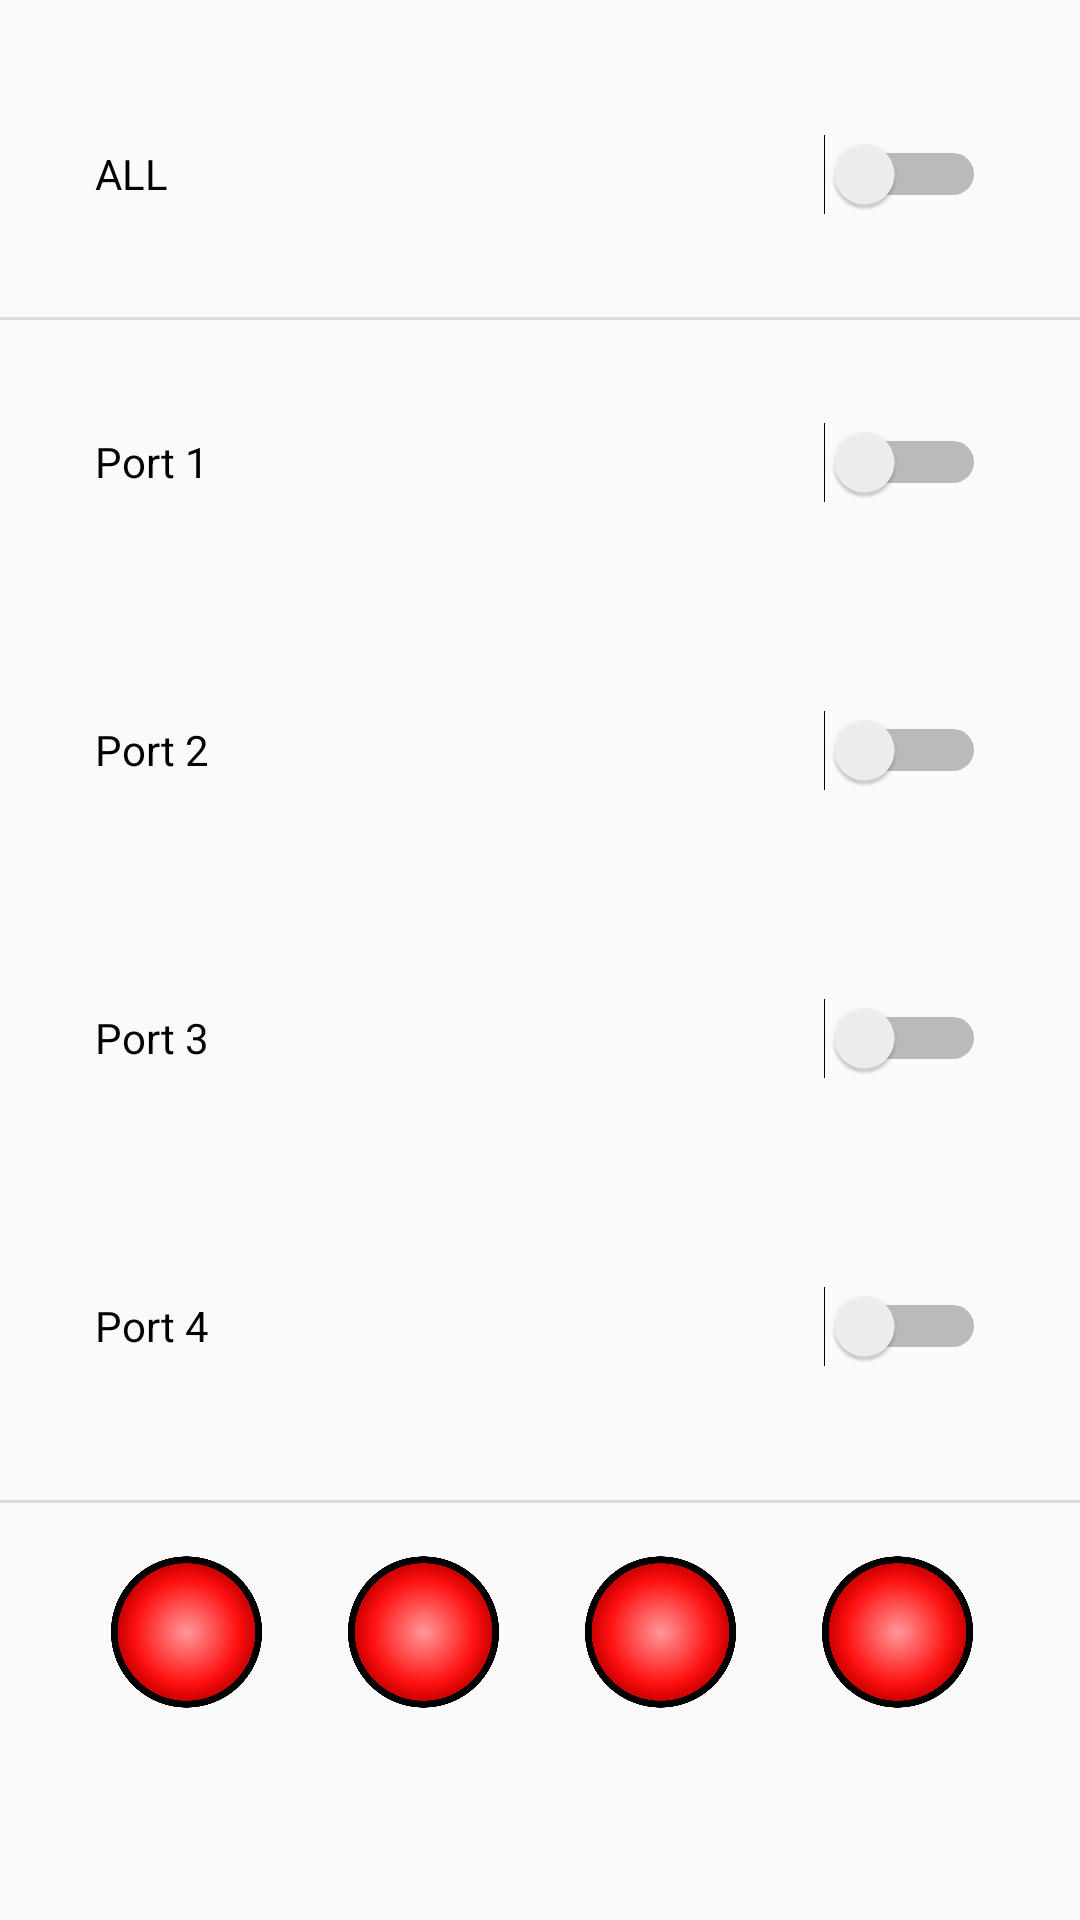

Screen size 1080*1920. Icon name, then its box in pixels as bbox(x1, y1, x2, y2):
led down: bbox(111, 1556, 262, 1708), bbox(348, 1556, 499, 1708), bbox(585, 1556, 736, 1708), bbox(822, 1556, 973, 1708)
